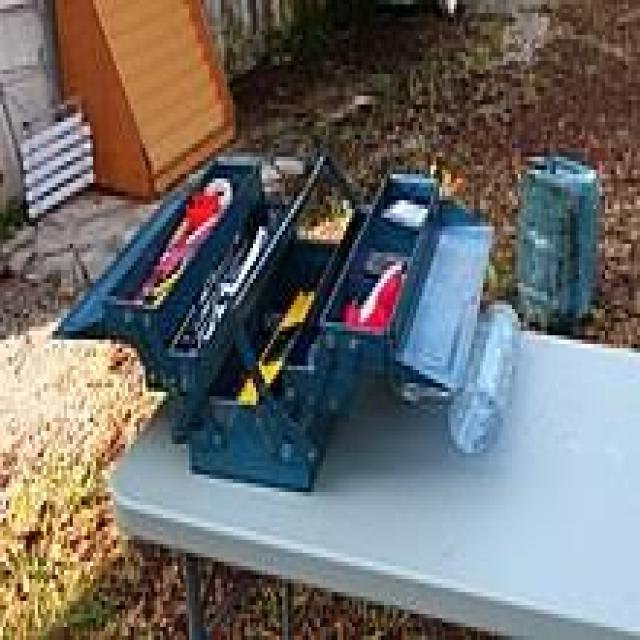tool_box: (55, 152, 506, 492)
